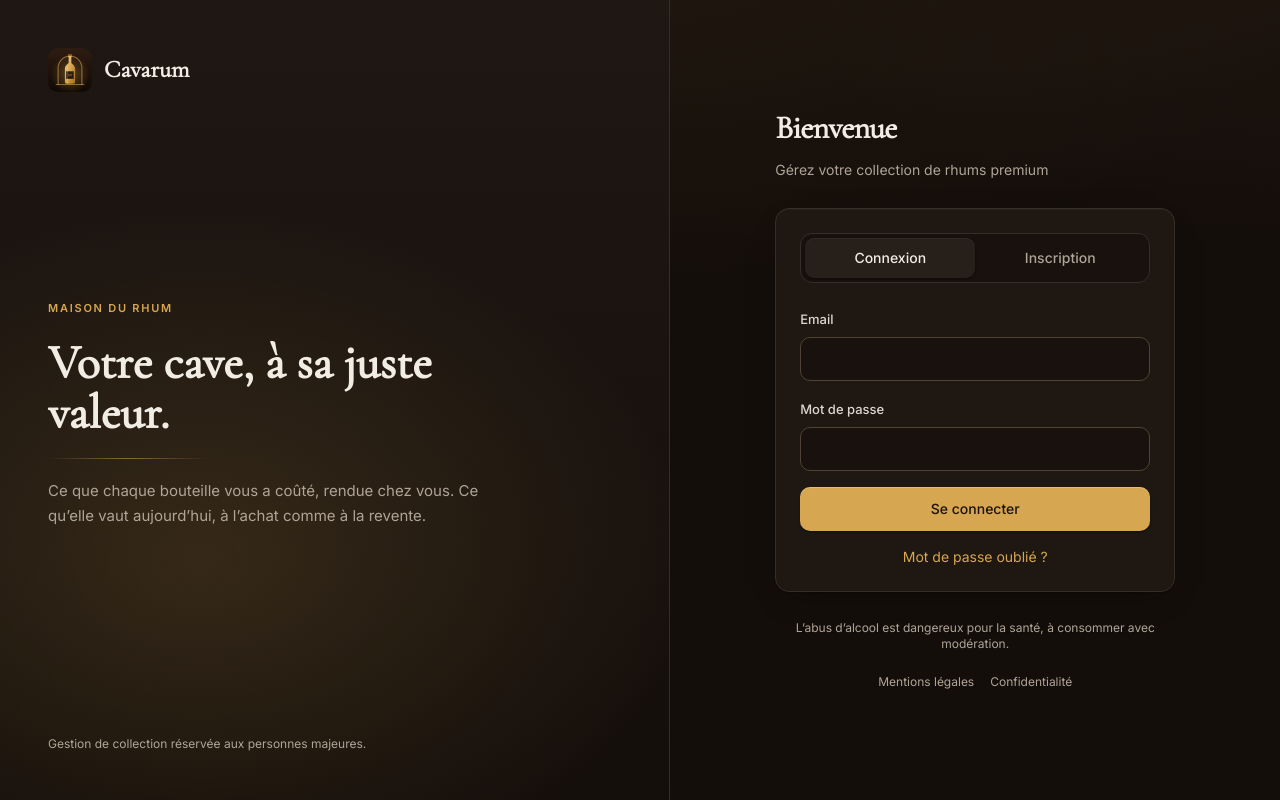
AuthPage › inscrit l’utilisateur majeur et l’invite à confirmer son email
Click the tab "Inscription": (1060, 258) [975, 238, 1145, 278]
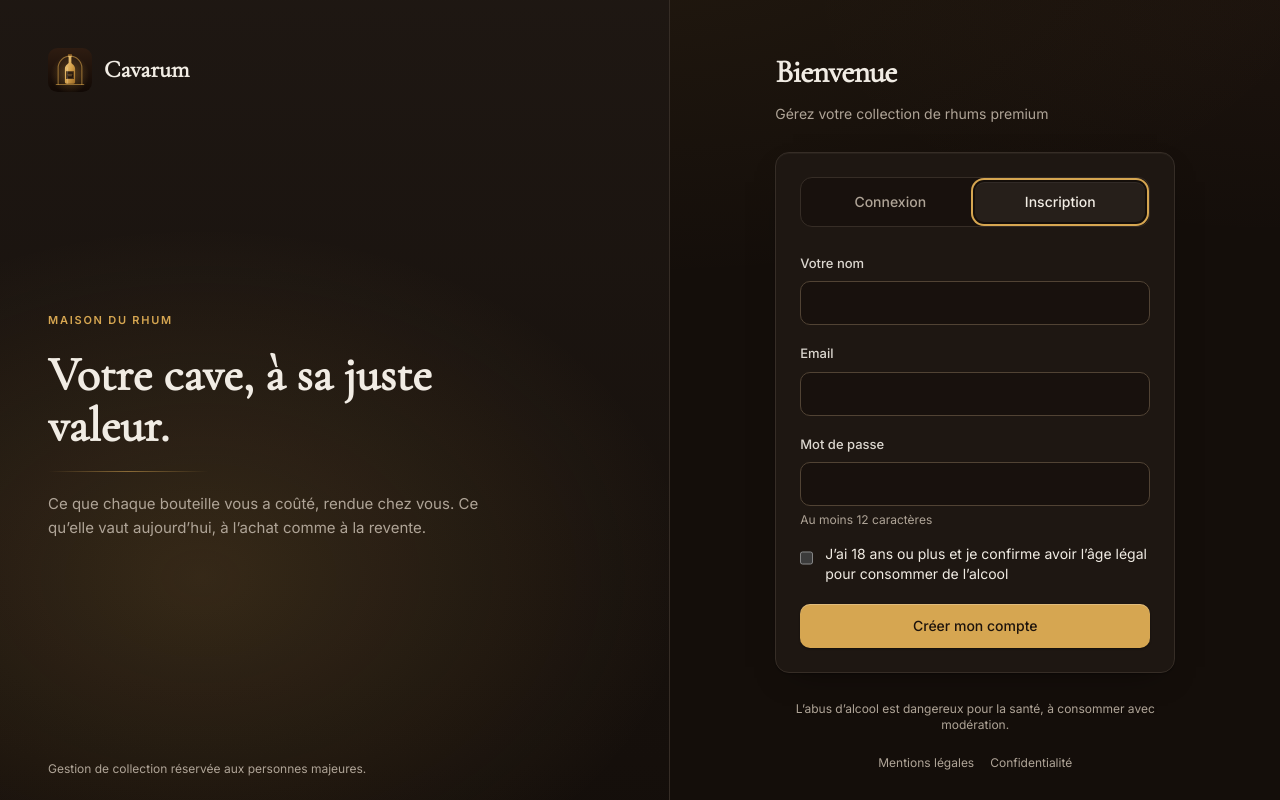
In the field labelled "Votre nom": (975, 303) [800, 281, 1150, 325], type "Fred"
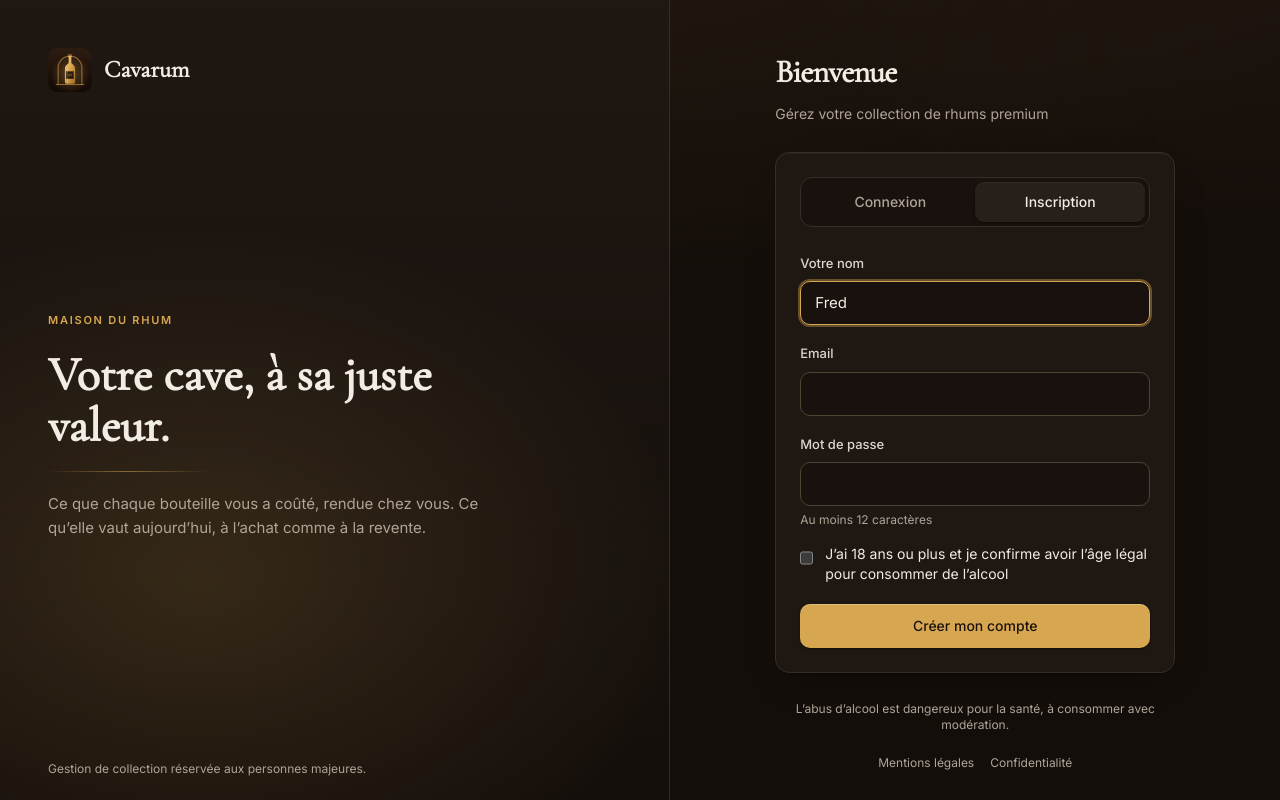
In the field labelled "Email": (975, 394) [800, 372, 1150, 416], type "fred@example.com"
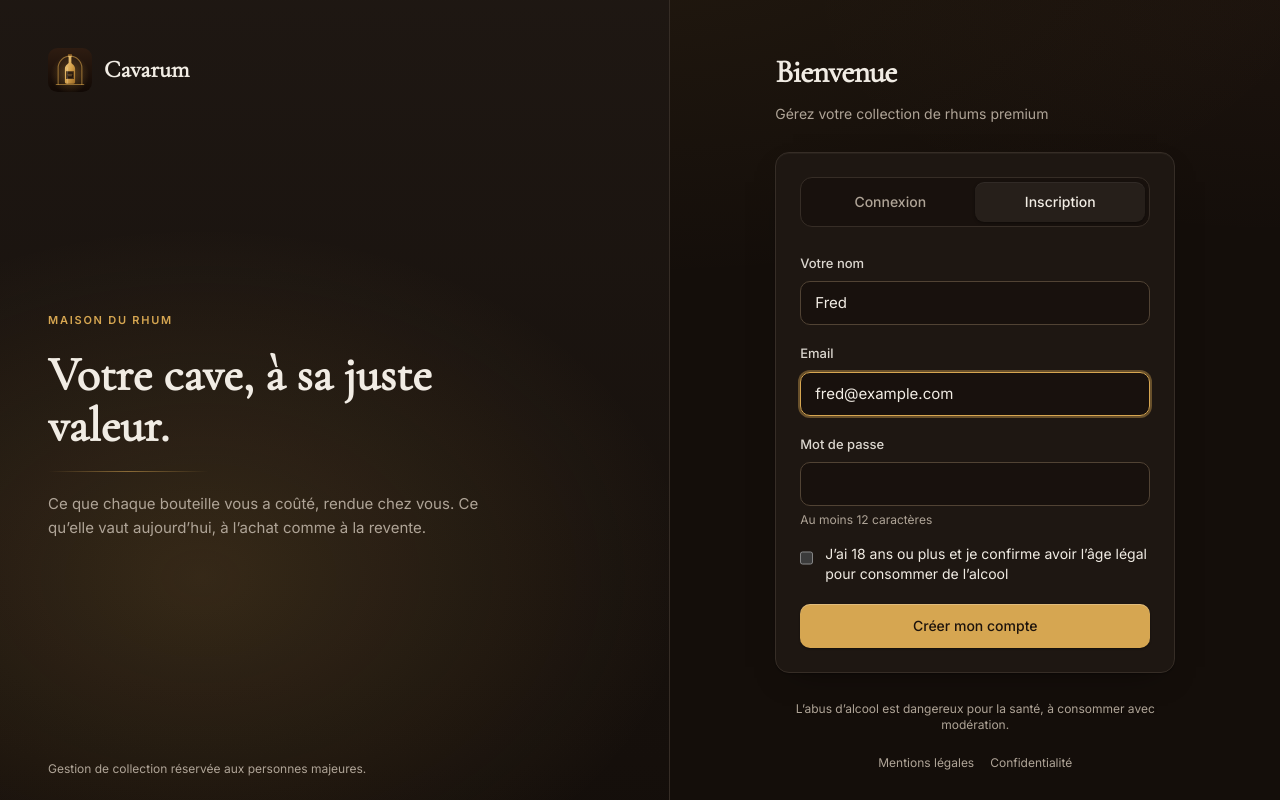
In the password field labelled "Mot de passe": (975, 484) [800, 462, 1150, 506], type "rhum-agricole-1"
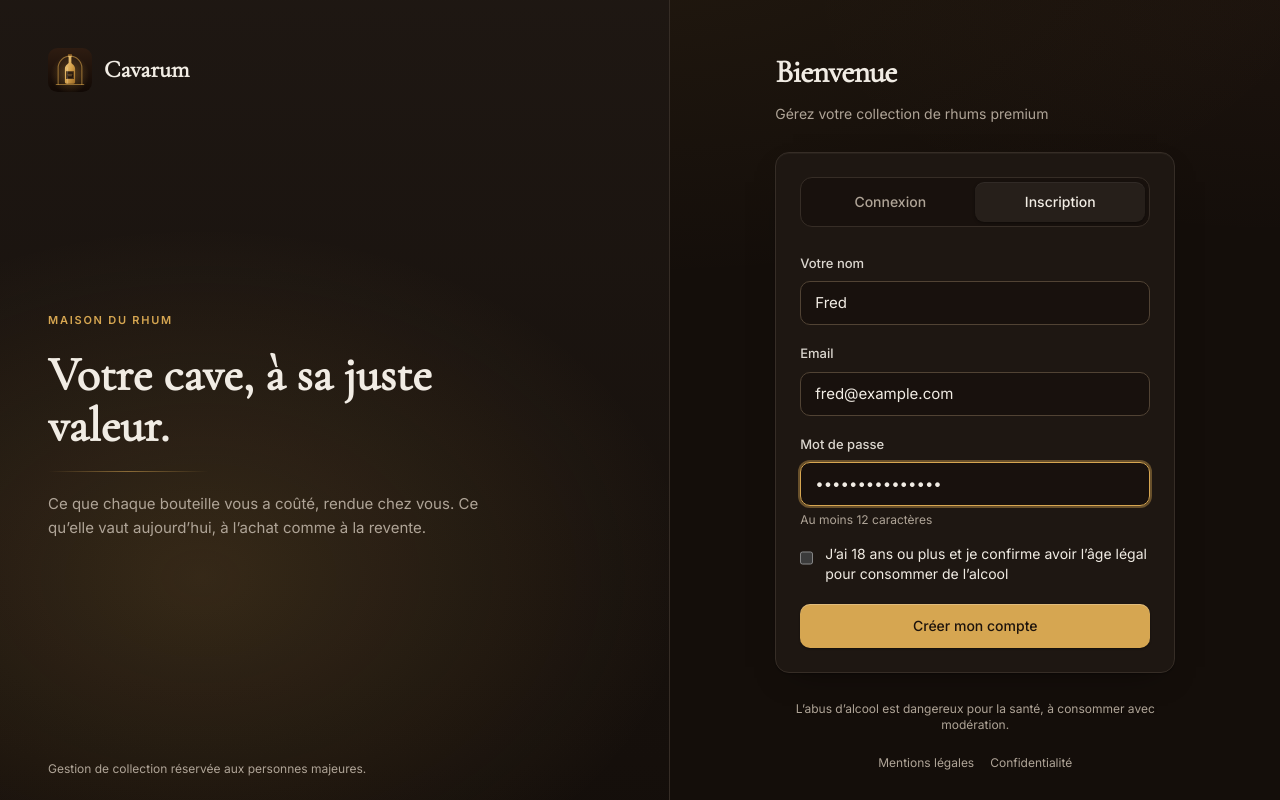
Click the checkbox labelled "J’ai 18 ans ou plus": (807, 558) [800, 548, 813, 568]
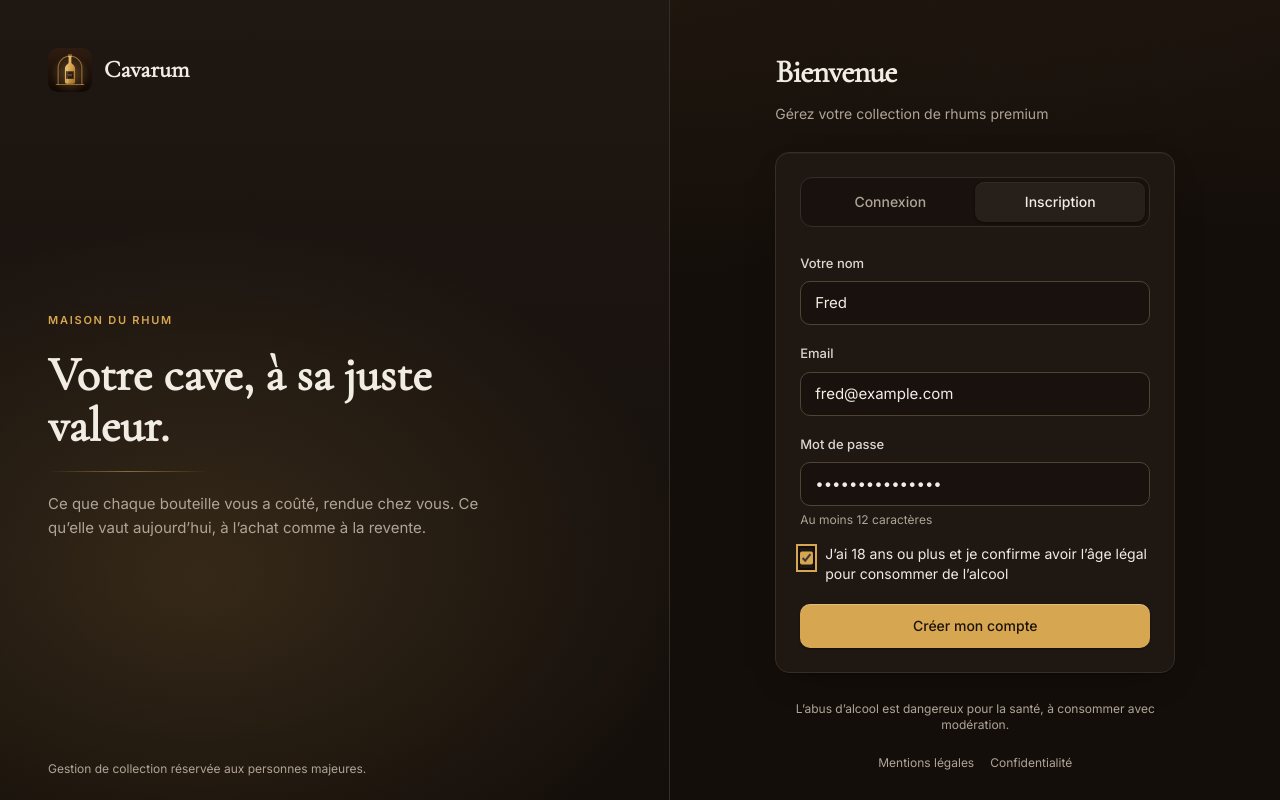
Click the button "Créer mon compte": (975, 626) [800, 604, 1150, 648]
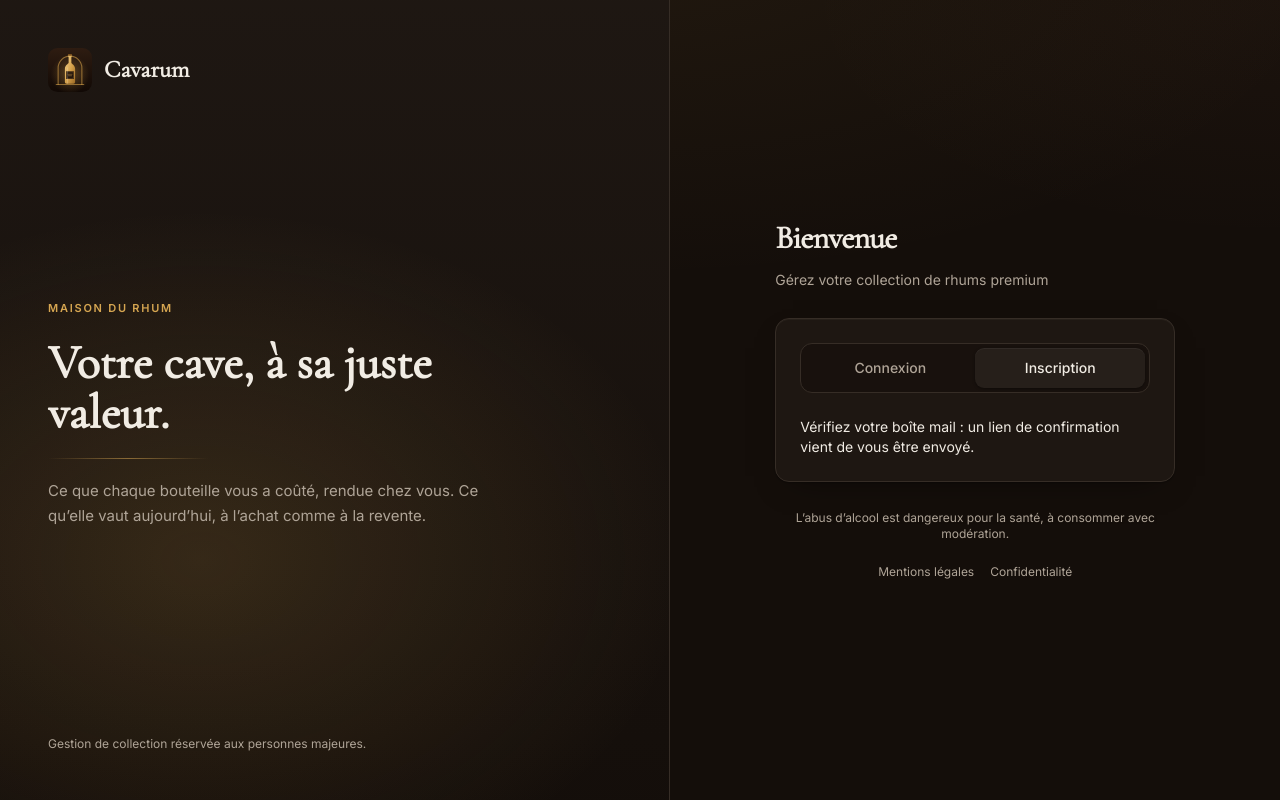
Result: the text "Vérifiez votre boîte mail" is shown at [800, 418, 1120, 455]
